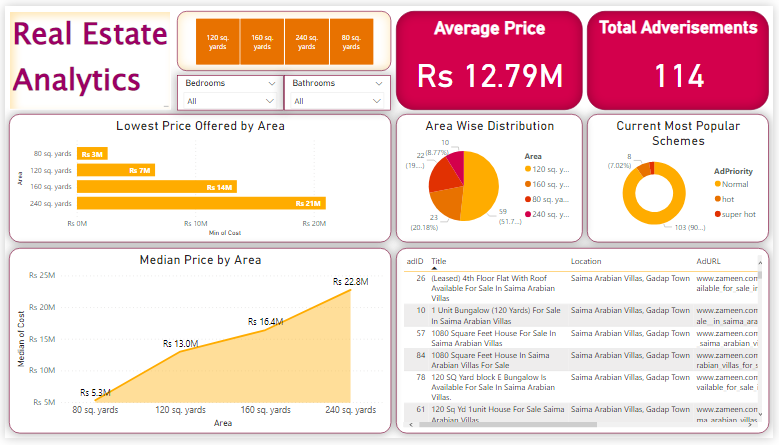

This screenshot's page, from the dashboard's own definition file:
{"tool":"powerbi","page":{"name":"Real Estate Analytics","canvas":[1280,720],"ordinal":0},"visuals":[{"type":"donutChart","title":"Current Most Popular Schemes","fields":{"Category":["real_estate.AdPriority"],"Y":["CountNonNull(real_estate.AdPriority)"]},"box":[970.6,180.1,302.8,214.4],"z":0},{"type":"pieChart","title":"Area Wise Distribution","fields":{"Category":["real_estate.Area"],"Y":["CountNonNull(real_estate.Area)"]},"box":[651.5,180.1,311,214.4],"z":1000},{"type":"barChart","title":"Lowest Price Offered by Area","fields":{"Category":["real_estate.Area"],"Y":["Min(real_estate.Cost)"]},"box":[6.5,180.1,636.7,214.4],"z":2000},{"type":"slicer","fields":{"Values":["real_estate.Area"]},"box":[286.4,8.2,356.8,99.8],"z":3000},{"type":"card","title":"Total Adverisements","fields":{"Values":["real_estate.adID running total in adID"]},"box":[970.6,8.2,302.8,165.3],"z":4000},{"type":"tableEx","fields":{"Values":["real_estate.adID","real_estate.Title","real_estate.Location","real_estate.AdURL"]},"box":[651.5,402.7,622,309.4],"z":5000},{"type":"slicer","fields":{"Values":["real_estate.Bedrooms"]},"box":[286.4,114.6,178.4,58.9],"z":6000},{"type":"slicer","fields":{"Values":["real_estate.Bathrooms"]},"box":[464.9,114.6,178.4,58.9],"z":7000},{"type":"card","title":"Average Price","fields":{"Values":["Avg(real_estate.Cost)"]},"box":[651.5,8.2,311,165.3],"z":8000},{"type":"areaChart","title":"Median Price by Area","fields":{"Category":["real_estate.Area"],"Y":["Median(real_estate.Cost)"]},"box":[6.5,402.7,636.7,309.4],"z":9000},{"type":"textbox","title":"Real Estate Analytics","box":[7.1,8.6,270,164.3],"z":10000}]}

Visuals, with their boxes in screenshot pixels (x1, y1, x2, y2), scaled from the page's 1280x720 canvas onto the 779x445 screenshot:
"Current Most Popular Schemes" donutChart: left=591, top=111, right=775, bottom=244
"Area Wise Distribution" pieChart: left=396, top=111, right=586, bottom=244
"Lowest Price Offered by Area" barChart: left=4, top=111, right=391, bottom=244
slicer - real_estate.Area: left=174, top=5, right=391, bottom=67
"Total Adverisements" card: left=591, top=5, right=775, bottom=107
tableEx - real_estate.adID x real_estate.Title: left=396, top=249, right=775, bottom=440
slicer - real_estate.Bedrooms: left=174, top=71, right=283, bottom=107
slicer - real_estate.Bathrooms: left=283, top=71, right=392, bottom=107
"Average Price" card: left=396, top=5, right=586, bottom=107
"Median Price by Area" areaChart: left=4, top=249, right=391, bottom=440
"Real Estate Analytics" textbox: left=4, top=5, right=169, bottom=107
